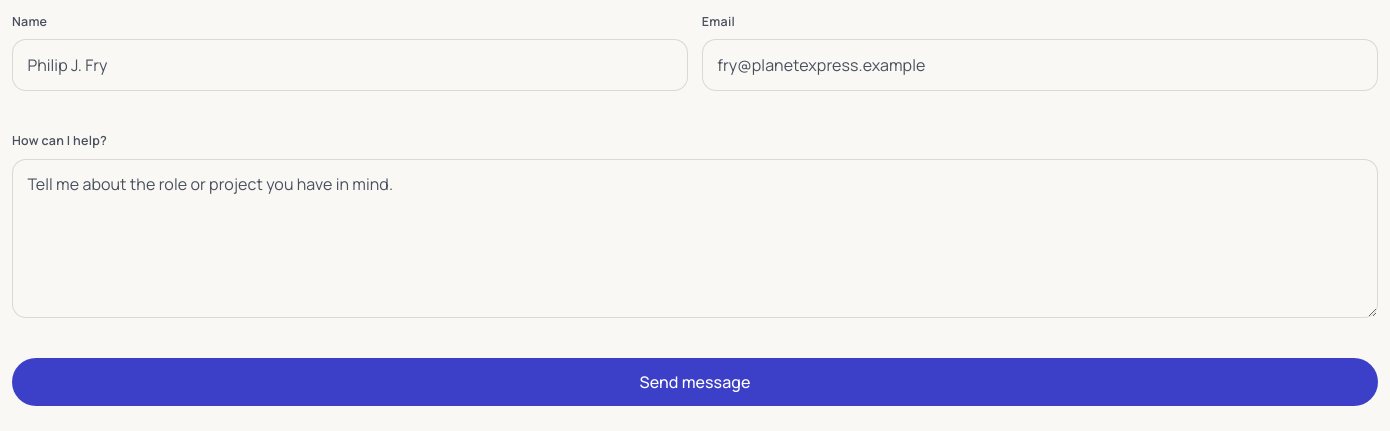
ContactForm › shows validation errors when submitting empty form
What coordinates should you click on to do the following:
click the button "Send message"
I would click on:
 (695, 382)
Its box is [12,358,1378,406].
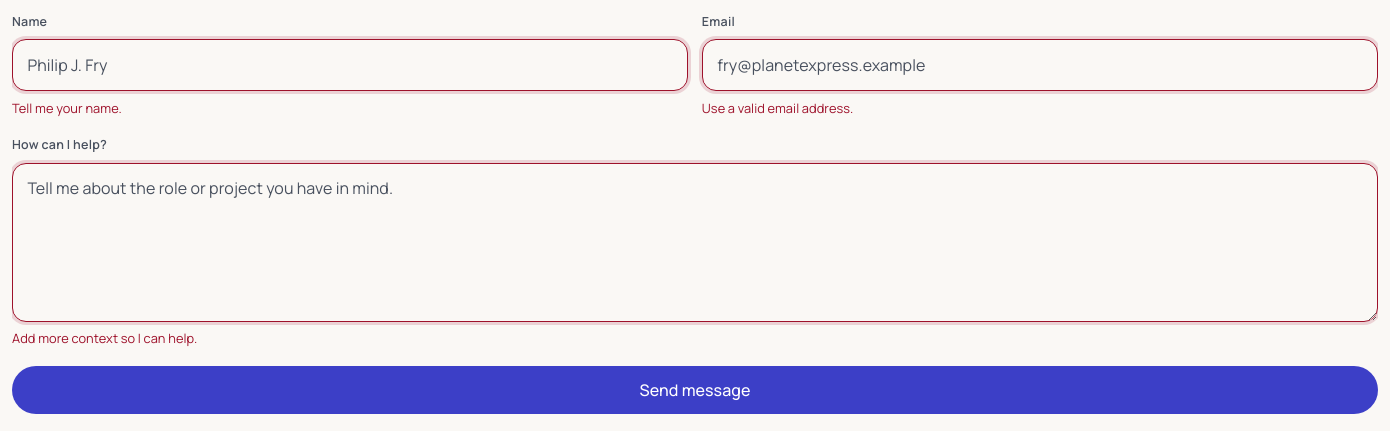
Now the text "Tell me your name." is shown, box [12,99,122,117]
Now the text "Use a valid email address." is shown, box [702,99,853,117]
Now the text "Add more context so I can help." is shown, box [12,329,197,347]
